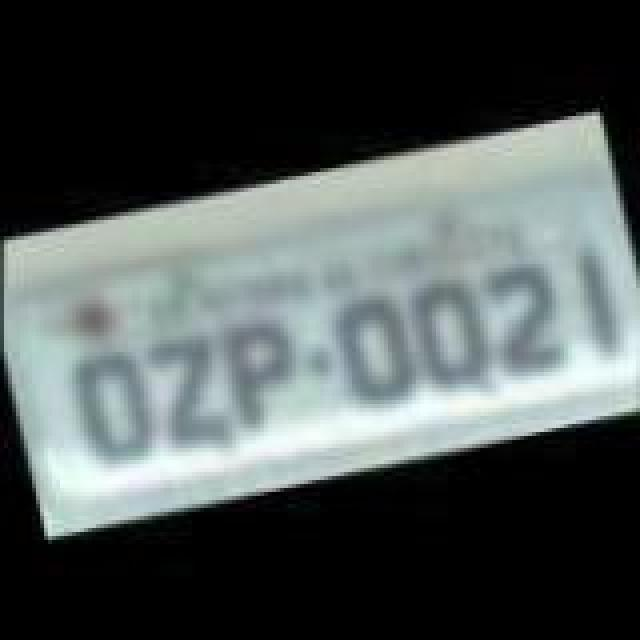1: (556, 228, 632, 360)
2: (468, 250, 576, 386)
O: (318, 274, 422, 406), (58, 338, 158, 474), (400, 262, 500, 394)
P: (214, 306, 318, 438)
Z: (134, 320, 234, 448)
